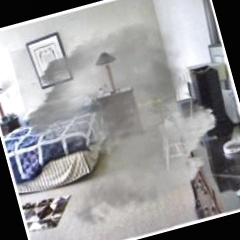smoke: (39, 26, 172, 177)
